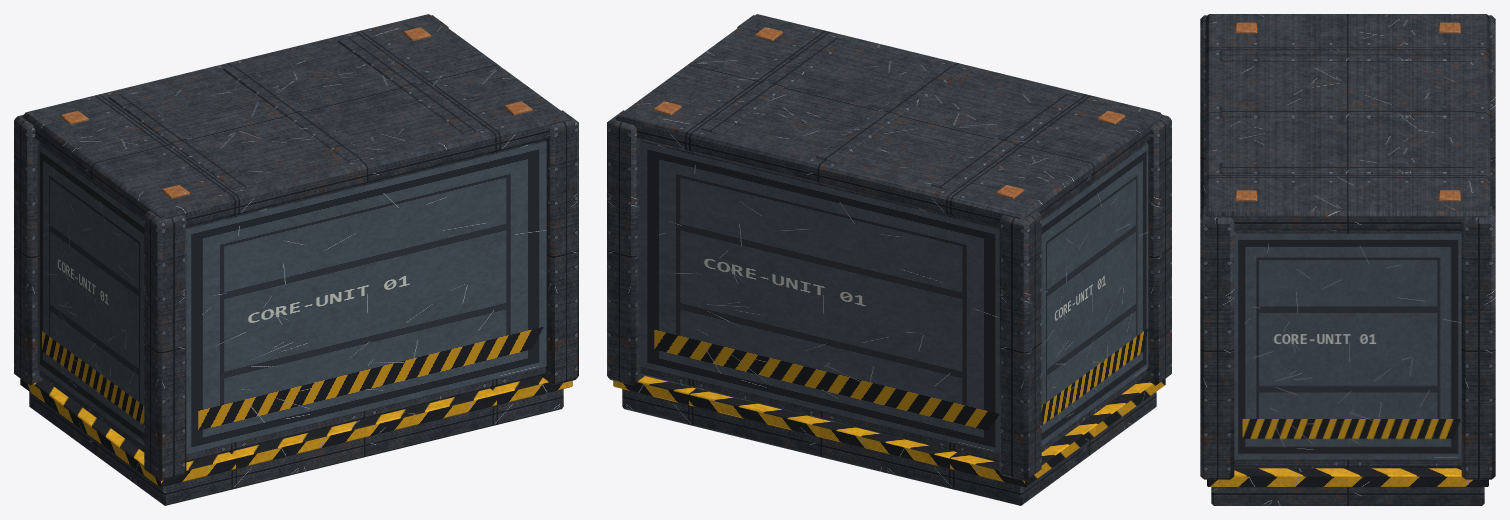
File: heavy-cargo-crate-scifi.glb
3 renders of one model, left to right at view 1: azimuth 30°, elevation 25°; view 2: azimuth 150°, elevation 25°; view 3: azimuth 270°, elevation 25°, orthographic.
Parts seen in each view (by area): view 1: caja_cobertura; view 2: caja_cobertura; view 3: caja_cobertura.
Boxes of the visible parts, x1=… form: caja_cobertura: x1=14, y1=14, x2=578, y2=505; caja_cobertura: x1=607, y1=14, x2=1171, y2=505; caja_cobertura: x1=1200, y1=14, x2=1495, y2=505.
Size of the model in its own units: 2.02 by 1.36 by 1.22.
4 materials, 4 textured.
